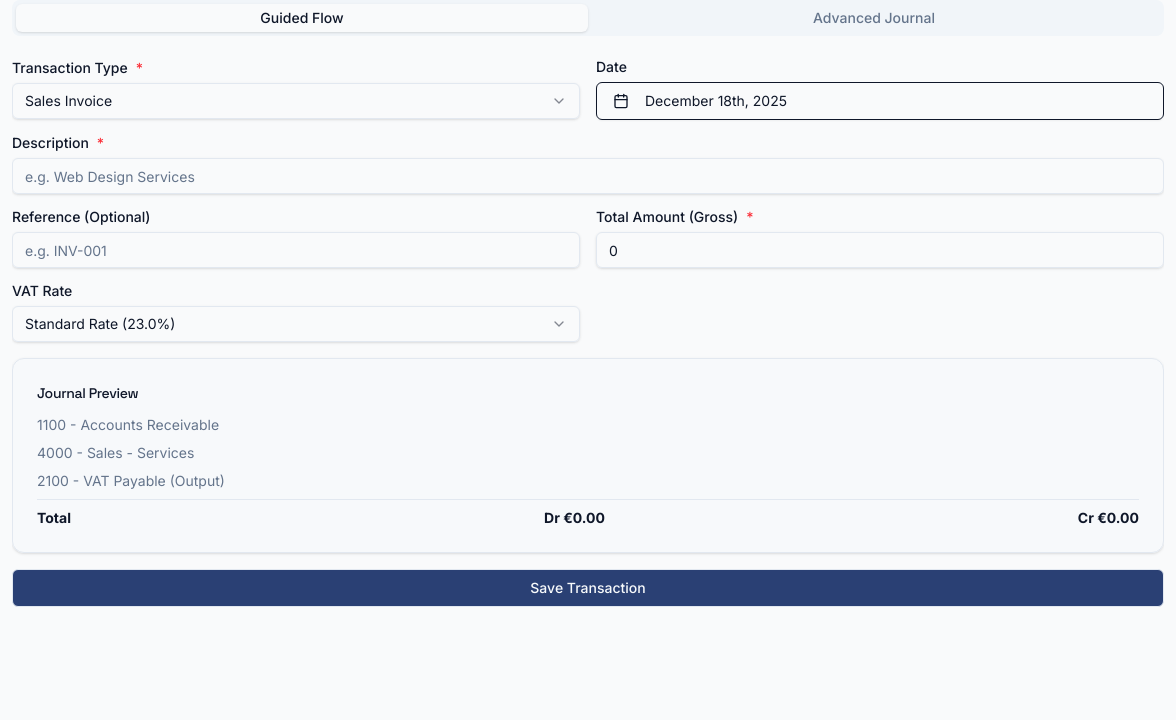
Test: TransactionForm › allows switching to advanced tab
Click the tab "Advanced Journal".
click(874, 18)  # box [588,4,1160,32]
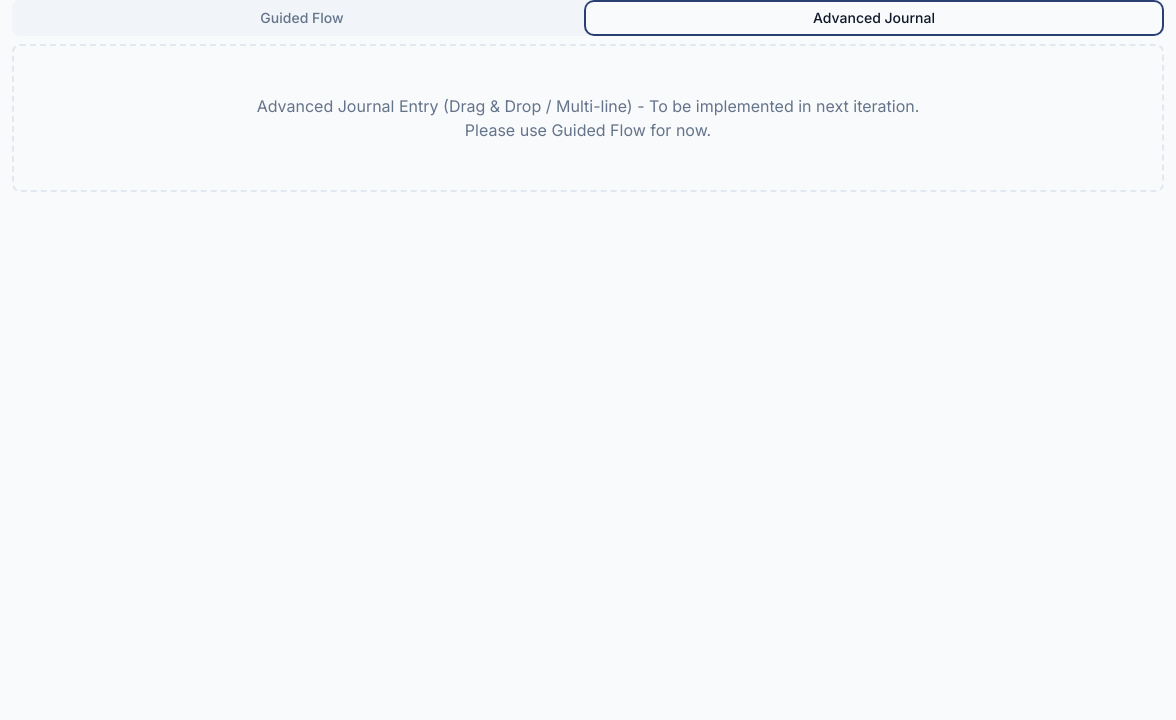
Now the text "Advanced Journal Entry" is shown, box [257,96,919,116]
